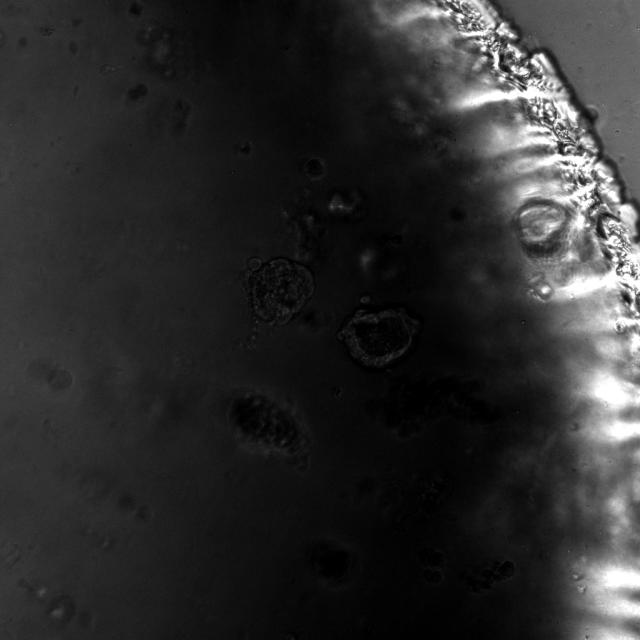organoid: (241, 257, 314, 348), (227, 390, 309, 468), (338, 308, 419, 368), (514, 199, 569, 256), (48, 369, 72, 391), (304, 158, 325, 179), (128, 83, 148, 100)
